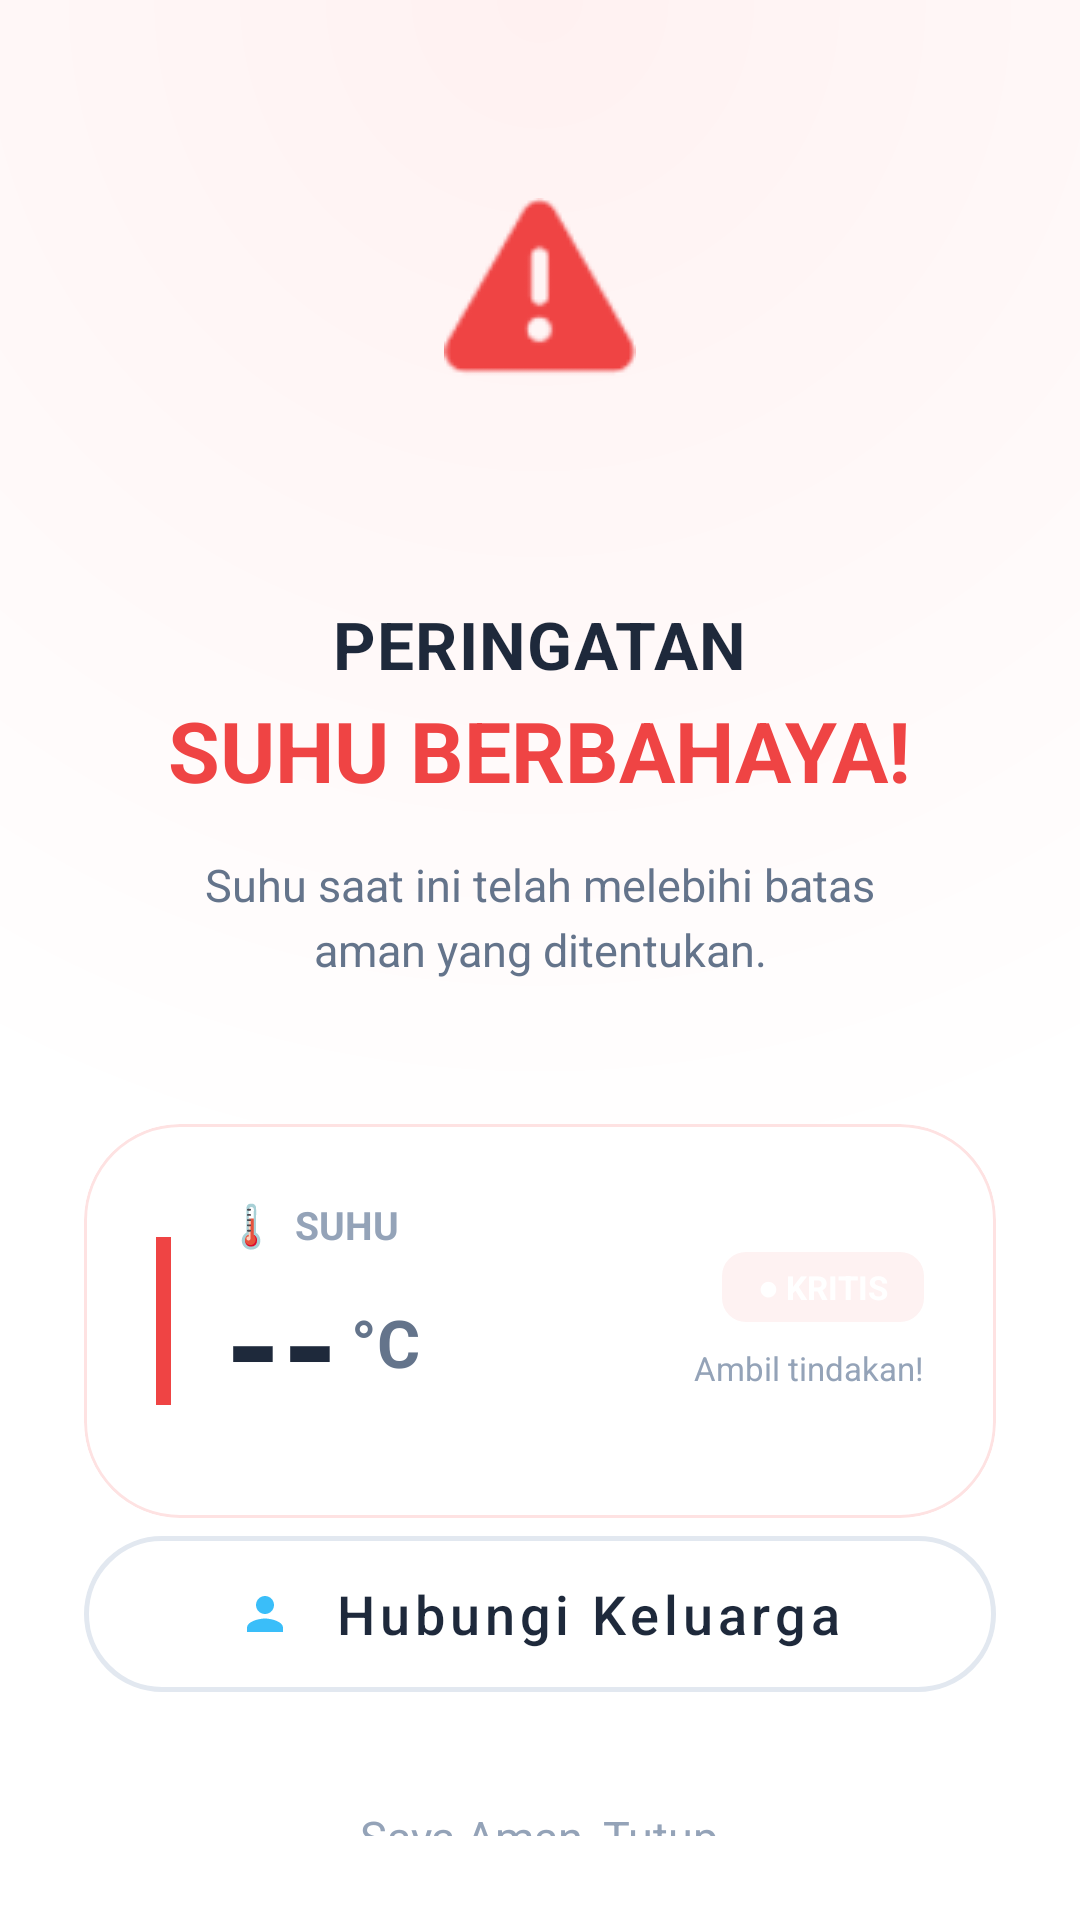

Named icons in this screenshot (1080*1920) and their centers, [x,y]:
alert: [540,285]
